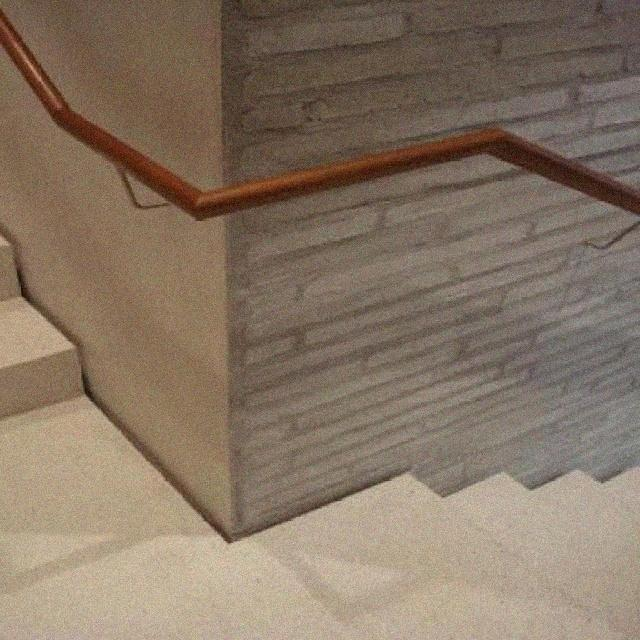stair: (0, 236, 640, 640)
